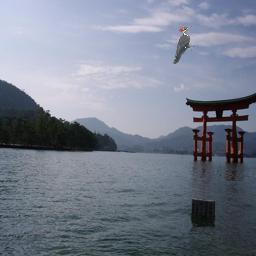Woodpecker: (172, 25, 194, 64)
